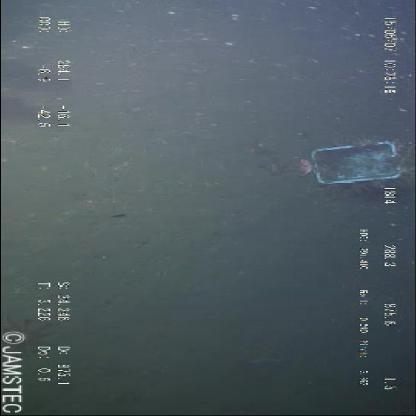Rác: (299, 136, 413, 189)
